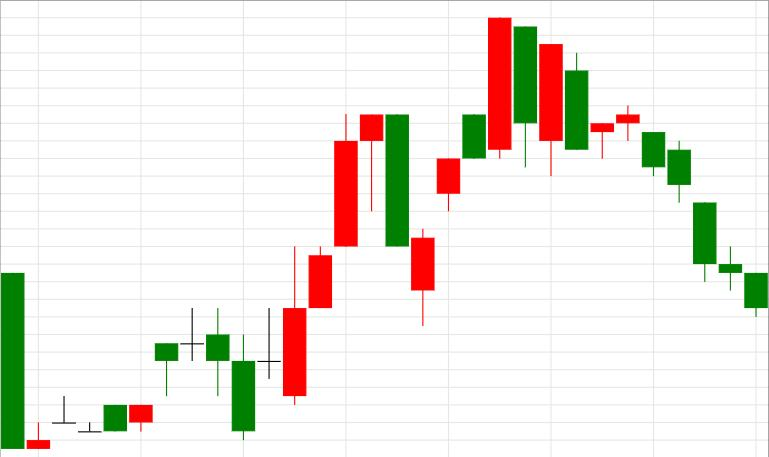bearish_engulfing_fall: (257, 114, 409, 406)
hanging_man_fall: (258, 114, 384, 406)
